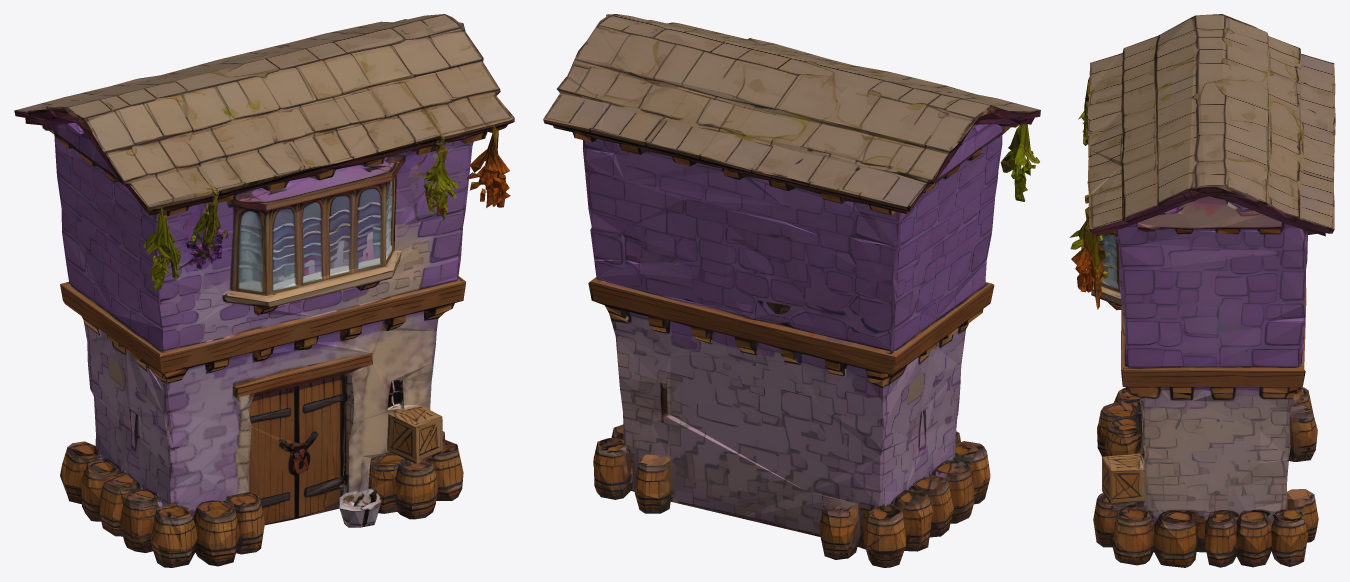
The model's file is apothecary.glb.
The picture shows the model from 3 angles, left to right: view 1: azimuth 30°, elevation 25°; view 2: azimuth 150°, elevation 25°; view 3: azimuth 270°, elevation 25°; orthographic projection. The views are drawn at different scales.
Parts seen in each view (by area): view 1: textured_mesh.obj; view 2: textured_mesh.obj; view 3: textured_mesh.obj.
Boxes of the visible parts, x1,y1,x2,y2 form: textured_mesh.obj: (14, 14, 514, 567); textured_mesh.obj: (543, 14, 1040, 567); textured_mesh.obj: (1070, 14, 1335, 567).
Size of the model in its own units: 1.86 by 1.98 by 1.2.
Materials: 1 (1 with a texture image).
